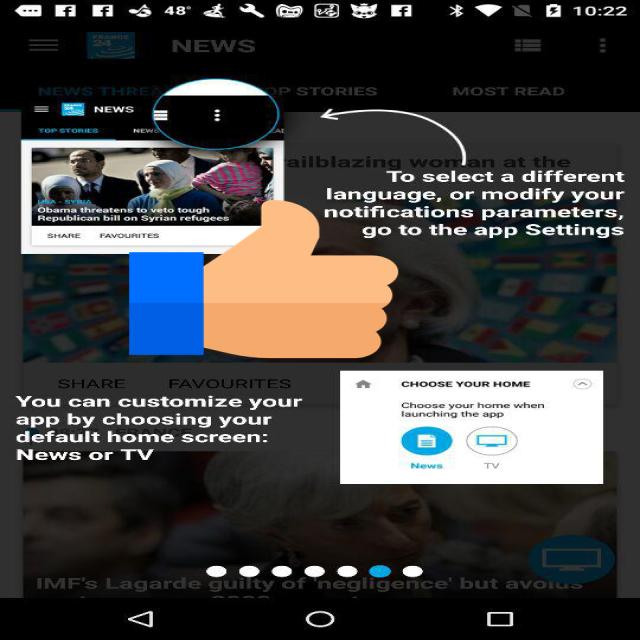privacy zuckering: (129, 196, 398, 362)
